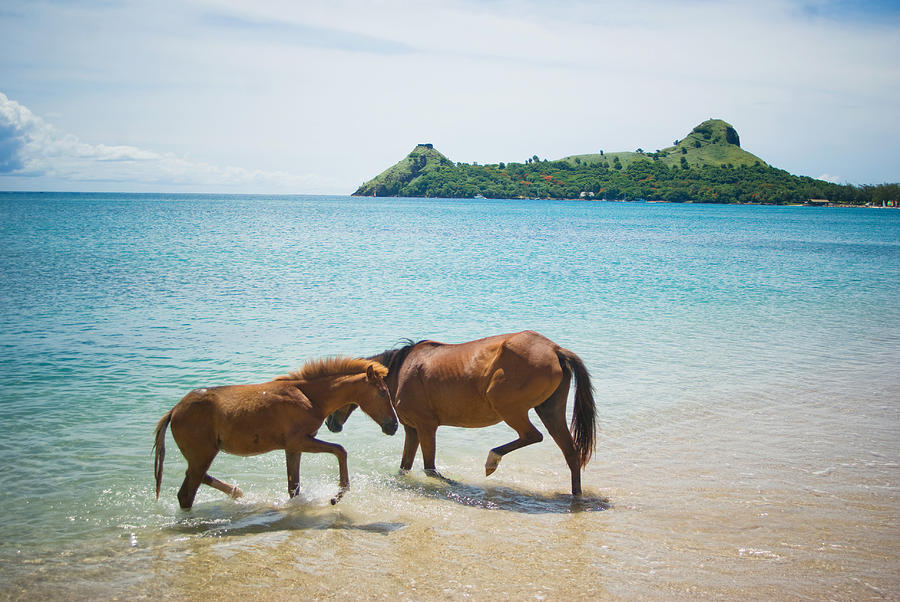Horse: (329, 332, 609, 509), (155, 353, 400, 529)
